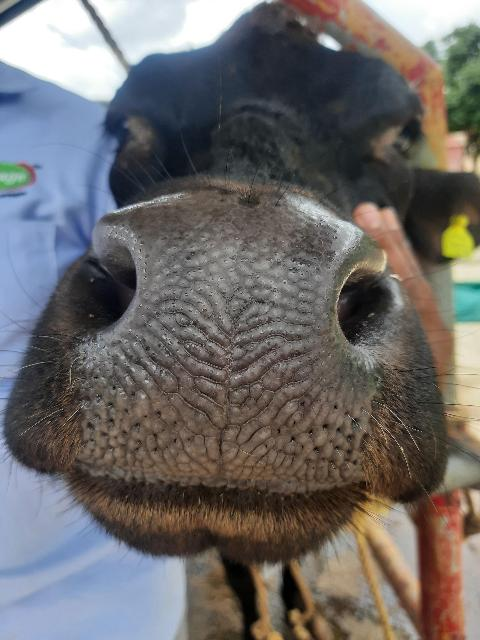Muzzle: (112, 208, 358, 494)
